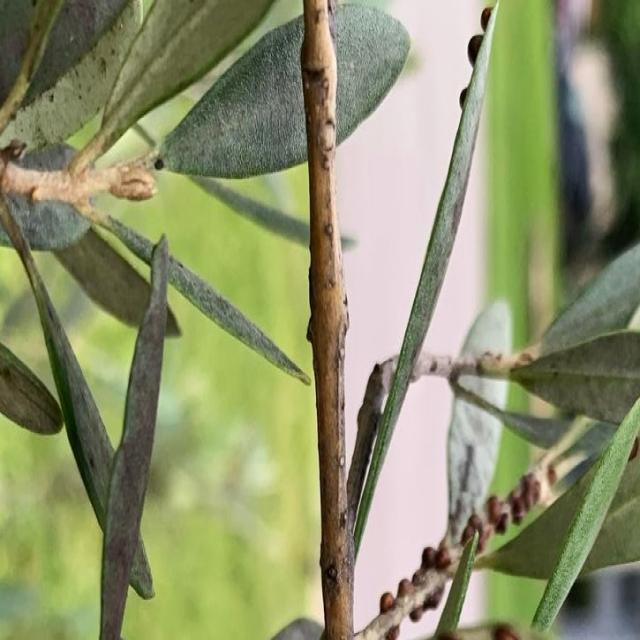BlackScale: (355, 452, 559, 638), (467, 0, 493, 68), (146, 154, 168, 171), (461, 84, 469, 108)
